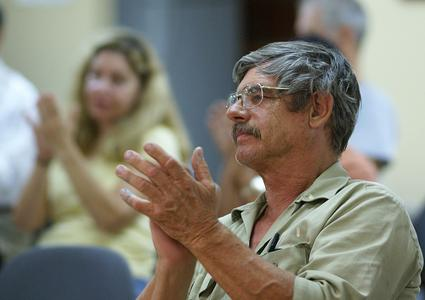person: (115, 39, 425, 300)
